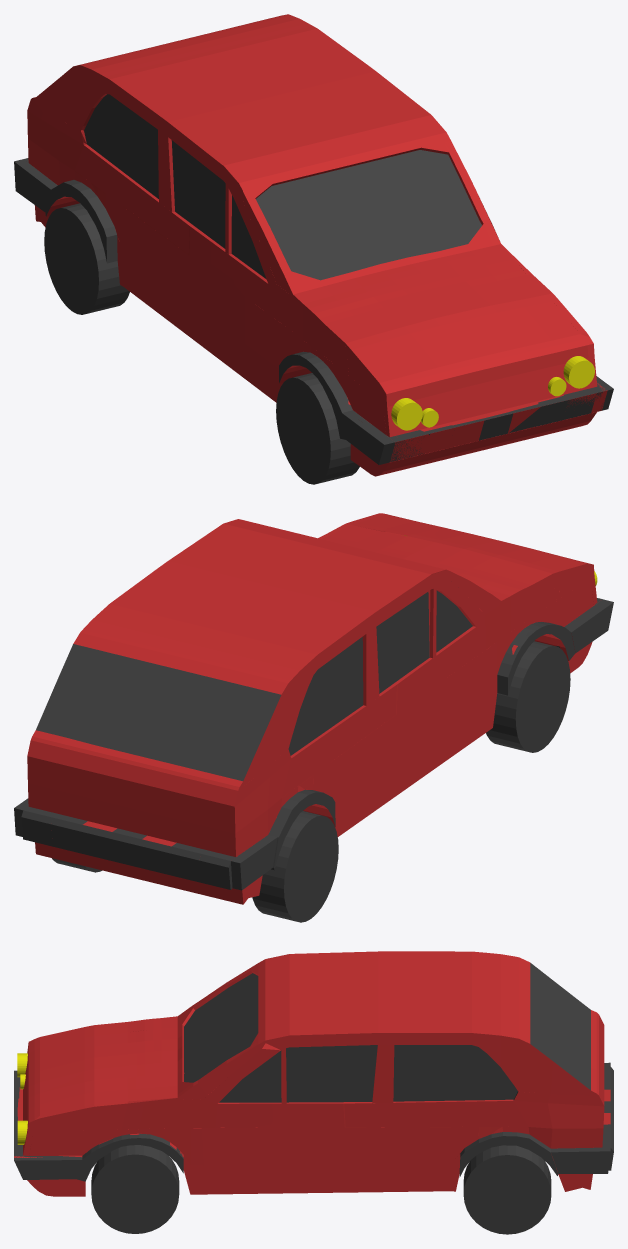
The model's file is машинка3.fbx.
The picture shows the model from 3 angles, top to bottom: view 1: azimuth 30°, elevation 25°; view 2: azimuth 150°, elevation 25°; view 3: azimuth 270°, elevation 25°; orthographic projection. The views are drawn at different scales.
Visible parts, largest first — view 1: Cube, Цилиндр.002, Цилиндр.003, Цилиндр.004, Цилиндр.005; view 2: Cube, Цилиндр.003, Цилиндр.002; view 3: Cube, Цилиндр.001, Цилиндр.
Boxes of the visible parts, x1,y1,x2,y2 form: Cube: [14, 14, 613, 476]; Цилиндр.002: [44, 203, 129, 314]; Цилиндр.003: [276, 373, 359, 484]; Цилиндр.004: [563, 356, 594, 388]; Цилиндр.005: [391, 398, 422, 430]; Cube: [14, 513, 613, 904]; Цилиндр.003: [486, 641, 570, 752]; Цилиндр.002: [252, 811, 338, 922]; Cube: [14, 951, 613, 1196]; Цилиндр.001: [463, 1145, 551, 1234]; Цилиндр: [91, 1145, 179, 1233].
Size of the model in its own units: 179 by 175 by 486.
